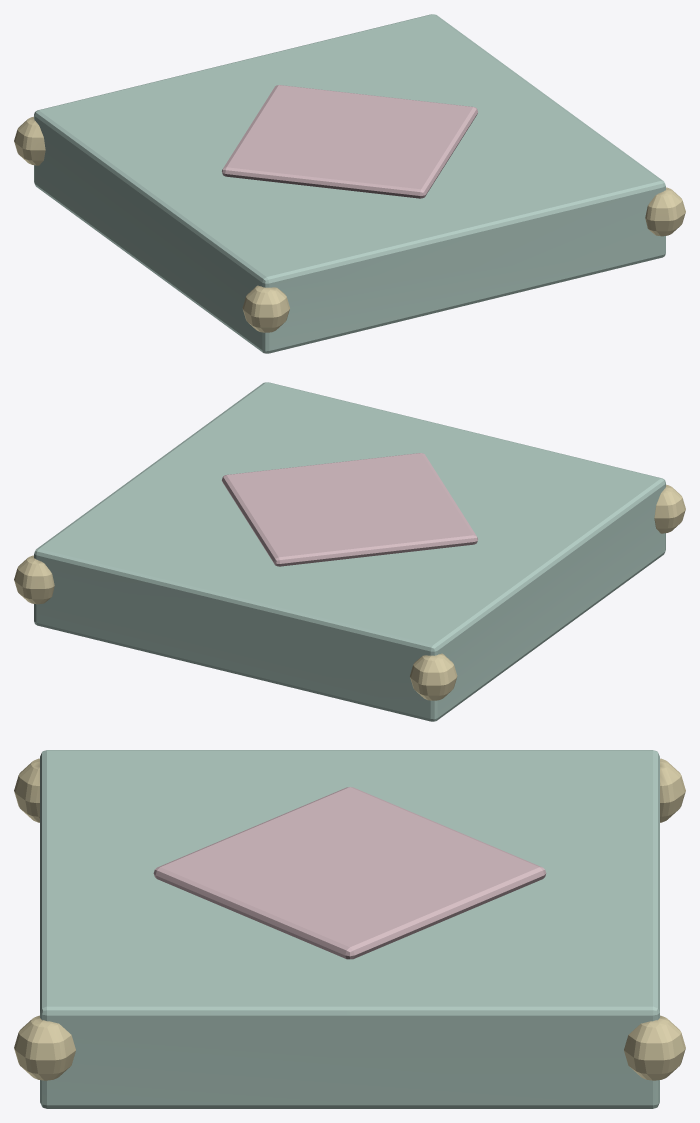
File: furn_floor_cushion__mint.glb
The picture shows the model from 3 angles, top to bottom: view 1: azimuth 30°, elevation 25°; view 2: azimuth 150°, elevation 25°; view 3: azimuth 270°, elevation 25°; orthographic projection. The views are drawn at different scales.
Bounding box in the file's own units: 0.592 × 0.111 × 0.5964.
